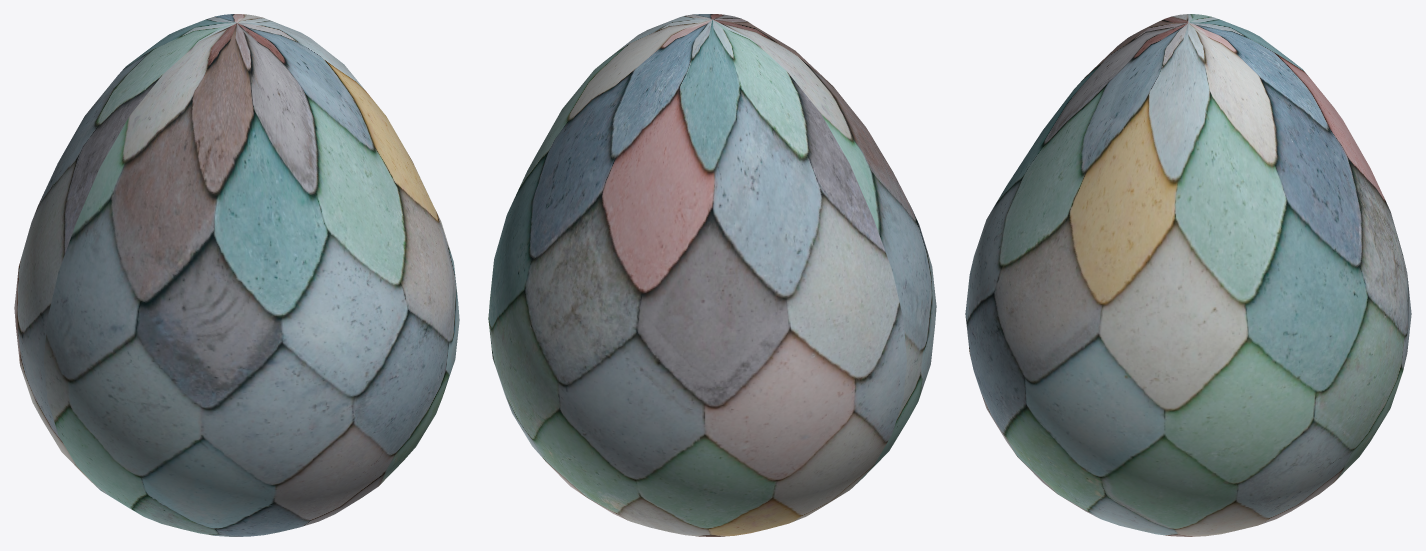
The model's file is dragon_egg.glb.
The picture shows the model from 3 angles, left to right: view 1: azimuth 30°, elevation 25°; view 2: azimuth 150°, elevation 25°; view 3: azimuth 270°, elevation 25°; orthographic projection.
Parts seen in each view (by area): view 1: Sphere; view 2: Sphere; view 3: Sphere.
Boxes of the visible parts, x1,y1,x2,y2 form: Sphere: [14, 14, 459, 536]; Sphere: [488, 14, 936, 536]; Sphere: [965, 14, 1411, 536].
Size of the model in its own units: 2 by 2.44 by 2.
Materials: 1 (1 with a texture image).
